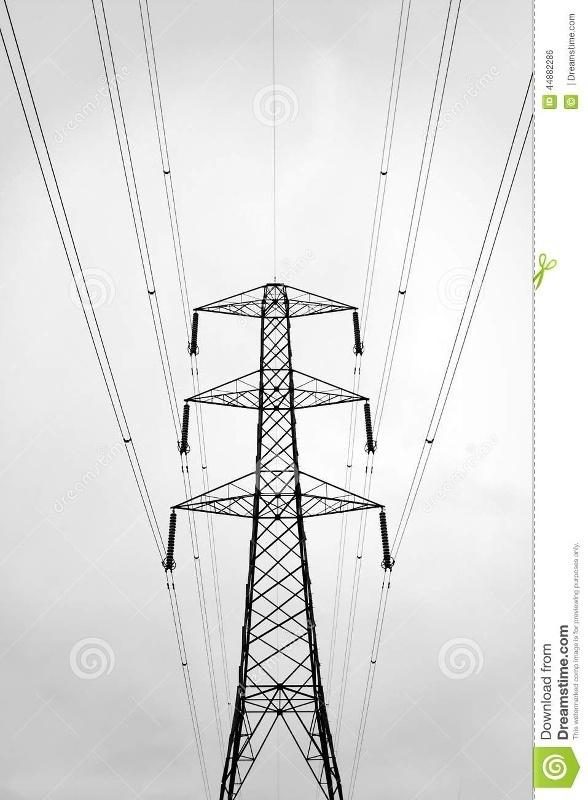power_tower: (175, 254, 384, 701)
